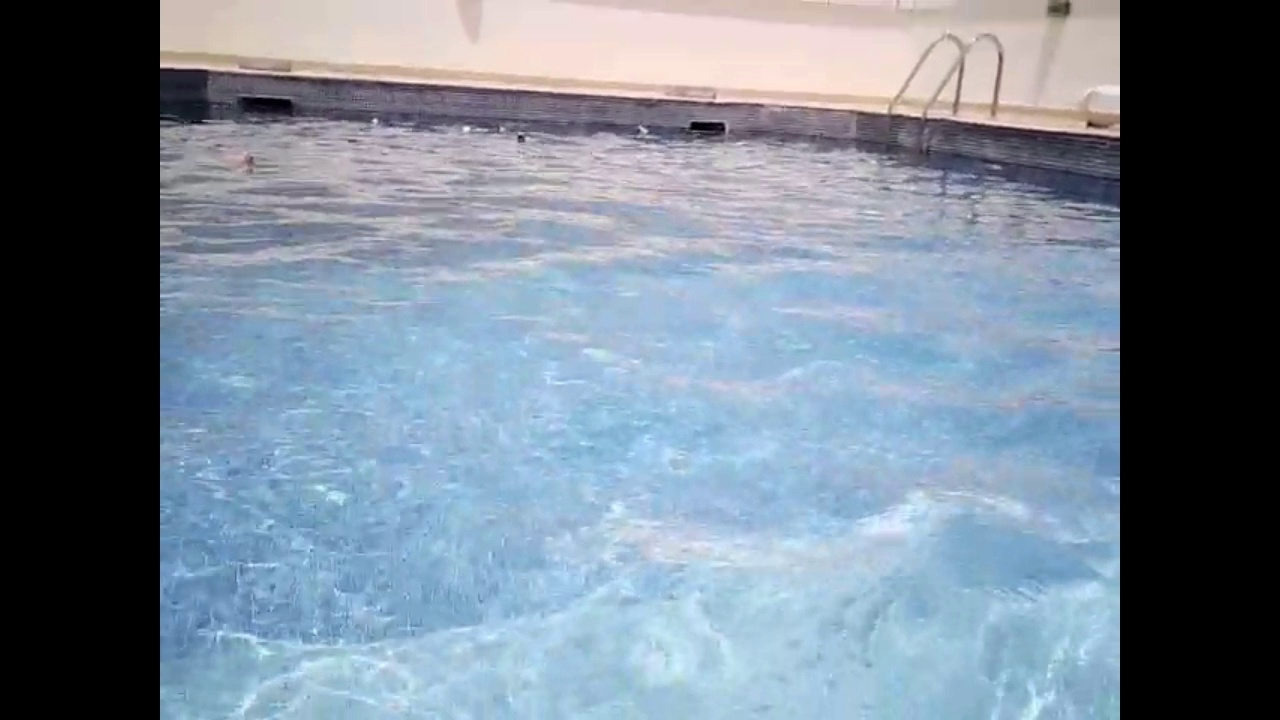debris: (513, 129, 530, 148)
